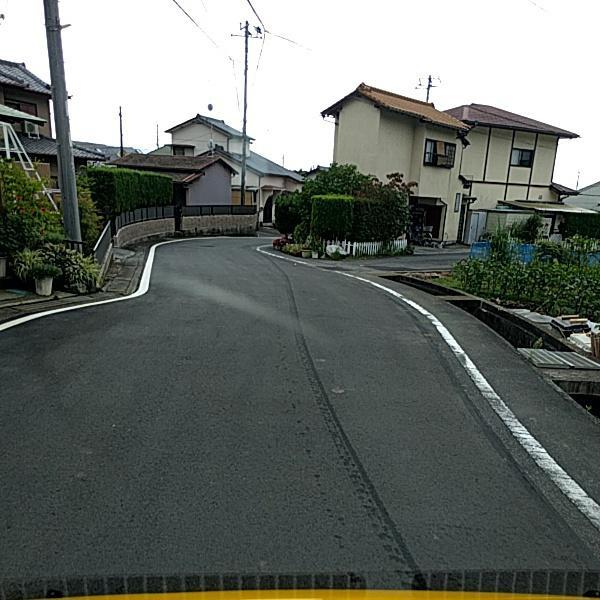D44: (373, 281, 599, 523)
